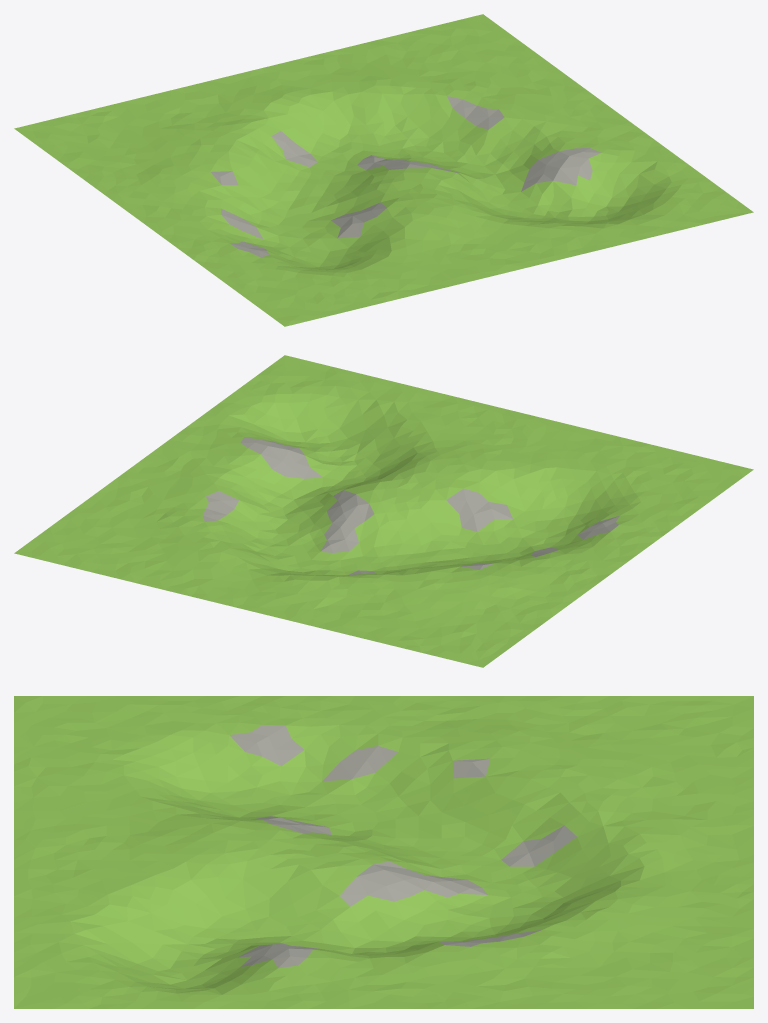
File: terrain_l_c_10.glb
3 renders of one model, top to bottom at view 1: azimuth 30°, elevation 25°; view 2: azimuth 150°, elevation 25°; view 3: azimuth 270°, elevation 25°, orthographic. The views are drawn at different scales.
Parts seen in each view (by area): view 1: CPT_Terrain_L_c_10; view 2: CPT_Terrain_L_c_10; view 3: CPT_Terrain_L_c_10.
Part boxes in pixels (x1,y1,x2,y2): CPT_Terrain_L_c_10: (14,14,753,326); CPT_Terrain_L_c_10: (14,355,753,667); CPT_Terrain_L_c_10: (14,696,753,1008).
Size of the model in its own units: 100 by 5.44 by 100.
1 material, 1 textured.
